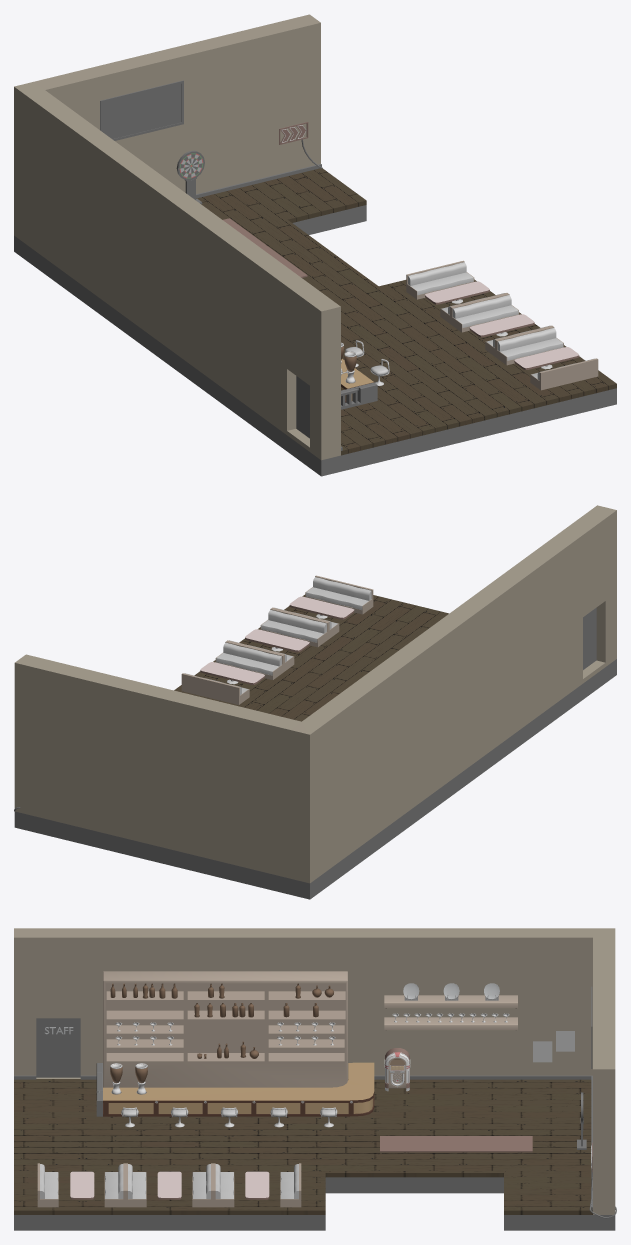
File: lobby.fbx
The picture shows the model from 3 angles, top to bottom: view 1: azimuth 30°, elevation 25°; view 2: azimuth 150°, elevation 25°; view 3: azimuth 270°, elevation 25°; orthographic projection. The views are drawn at different scales.
Parts seen in each view (by area): view 1: wall, floor, bar_sofa, bar_TV, tabel, bar_dart, staff_door, molding; view 2: wall, floor, bar_sofa, tabel, staff_door; view 3: floor, wall, showcase, bar, bar_sofa, shelf, staff_door, carpet, tabel, bottle, molding, bar_chair.001 (+5 smaller).
Boxes of the visible parts, <box> form: wall: <box>14,14,340,476</box>; floor: <box>196,168,616,471</box>; bar_sofa: <box>406,260,598,390</box>; bar_TV: <box>100,80,183,140</box>; tabel: <box>425,281,579,369</box>; bar_dart: <box>176,150,204,204</box>; staff_door: <box>296,376,309,438</box>; molding: <box>196,164,342,450</box>; wall: <box>14,505,616,899</box>; floor: <box>174,594,448,721</box>; bar_sofa: <box>181,575,373,704</box>; tabel: <box>200,596,354,684</box>; staff_door: <box>583,607,596,669</box>; floor: <box>14,1079,592,1230</box>; wall: <box>14,928,615,1230</box>; showcase: <box>103,971,347,1087</box>; bar: <box>103,1062,374,1116</box>; bar_sofa: <box>37,1163,301,1207</box>; shelf: <box>384,995,517,1030</box>; staff_door: <box>36,1018,80,1077</box>; carpet: <box>380,1136,532,1152</box>; tabel: <box>70,1171,269,1199</box>; bottle: <box>110,983,333,1058</box>; molding: <box>14,1075,592,1210</box>; bar_chair.001: <box>121,1107,337,1127</box>.
Size of the model in its own units: 1848 by 980 by 3317.
